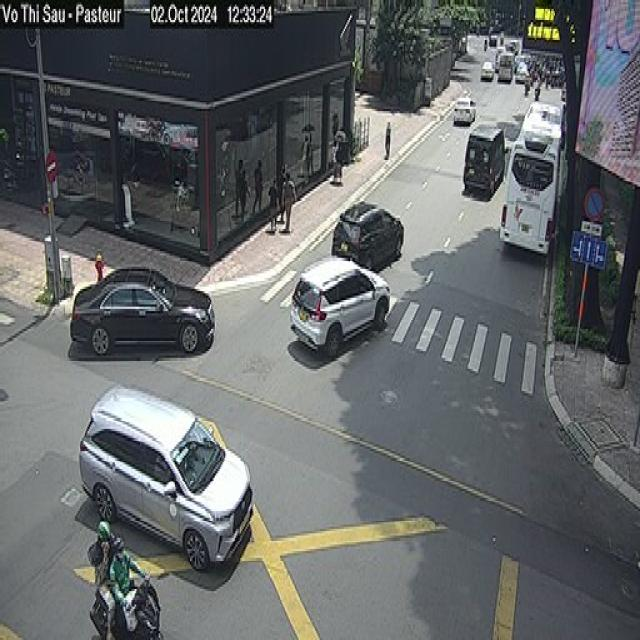bus: (498, 97, 562, 255)
car: (78, 382, 252, 571), (70, 264, 214, 356), (289, 253, 390, 358), (334, 188, 398, 280), (460, 123, 507, 218), (450, 84, 476, 134), (495, 47, 516, 87), (452, 96, 477, 124), (514, 48, 528, 90), (483, 52, 492, 84)
motorcycle: (89, 571, 162, 638)
person: (85, 512, 116, 611), (112, 523, 138, 618), (333, 129, 349, 184), (266, 169, 280, 231), (328, 123, 342, 182), (282, 163, 294, 230), (252, 158, 262, 213), (384, 120, 391, 158)
